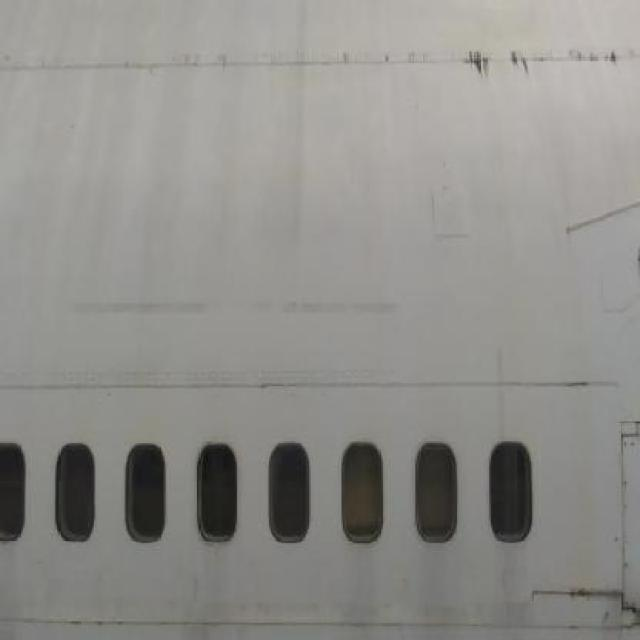Rust: (440, 34, 622, 104), (551, 574, 640, 626)
Scartch: (61, 290, 410, 332)
